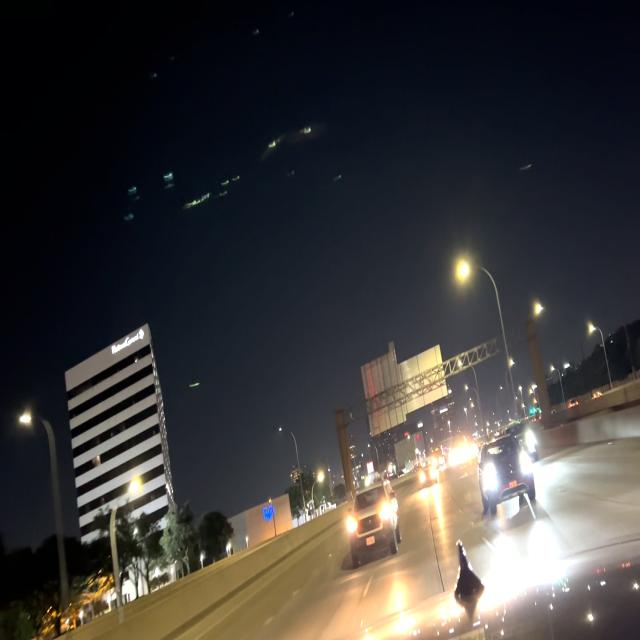back-of-sign: (363, 338, 446, 438)
